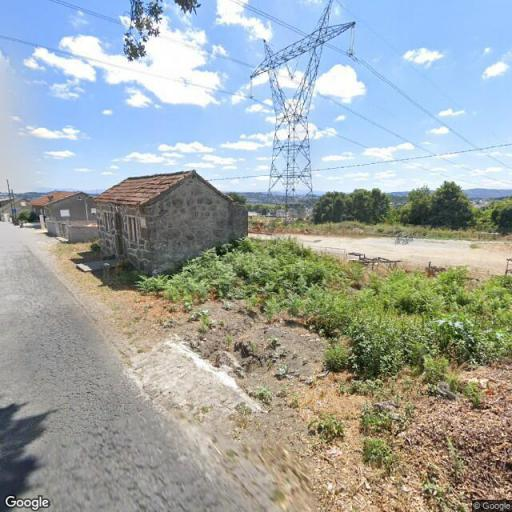wt_5: (247, 0, 359, 219)
